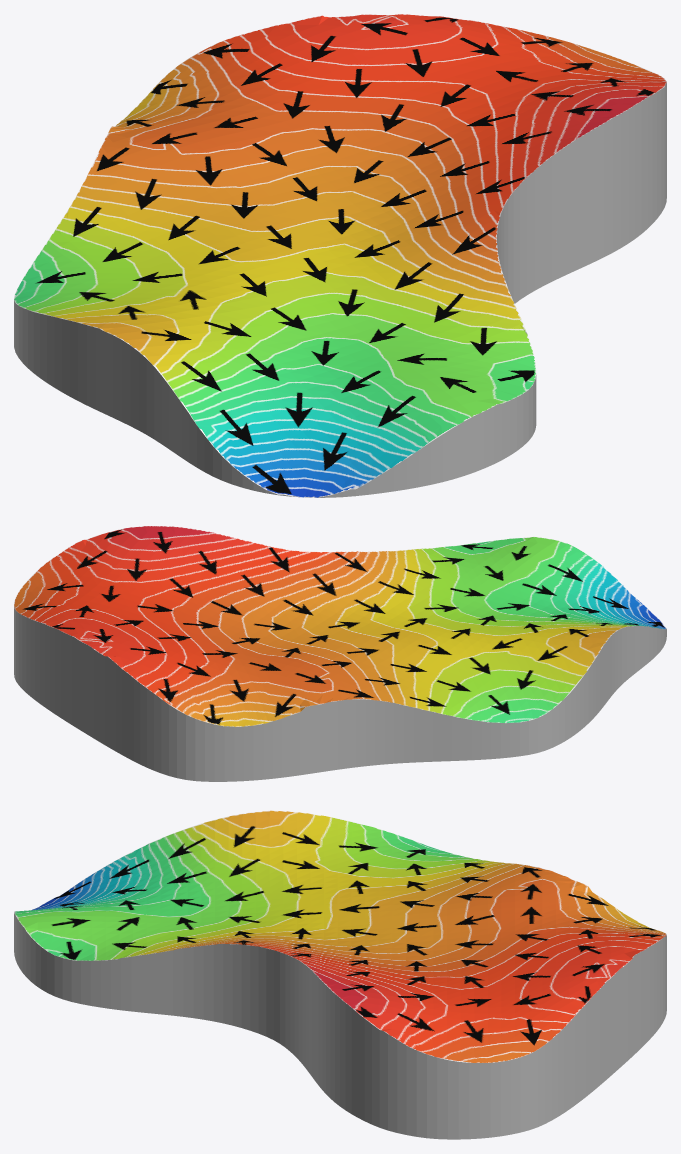
3 views of the same model, one above another, from view 1: azimuth 30°, elevation 25°; view 2: azimuth 150°, elevation 25°; view 3: azimuth 270°, elevation 25° (orthographic). The views are drawn at different scales.
Bounding box in the file's own units: 4.38 × 0.8387 × 4.54.
2 materials, 1 textured.
